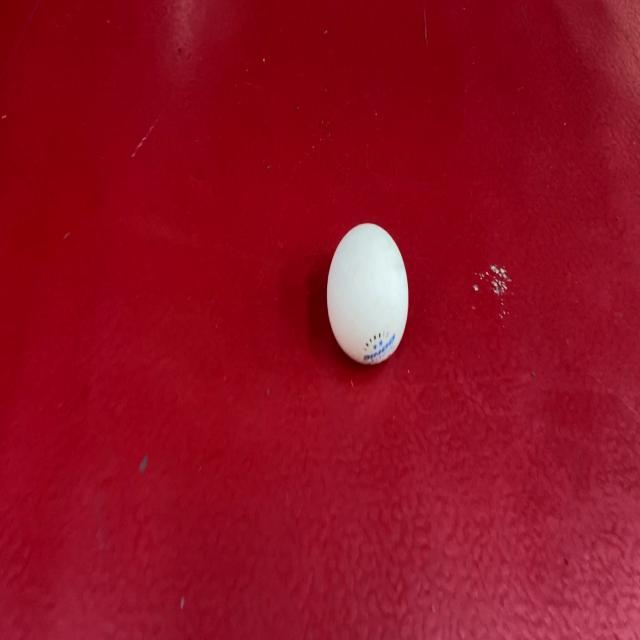ping-pong-ball: (324, 218, 412, 370)
